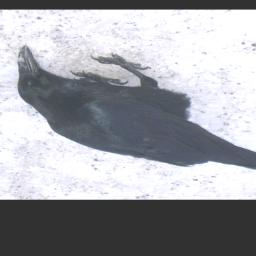Crow: (18, 46, 256, 171)
